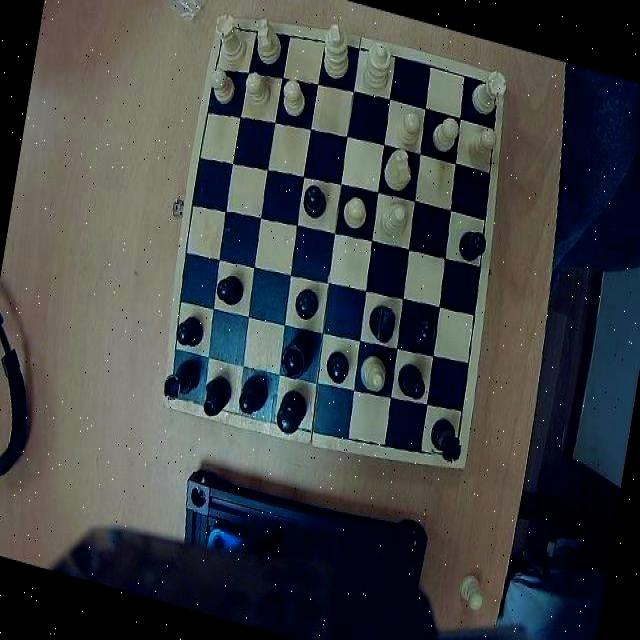chess-table-corners: (431, 431, 466, 469), (163, 375, 196, 410), (476, 74, 506, 108), (214, 17, 242, 48)
